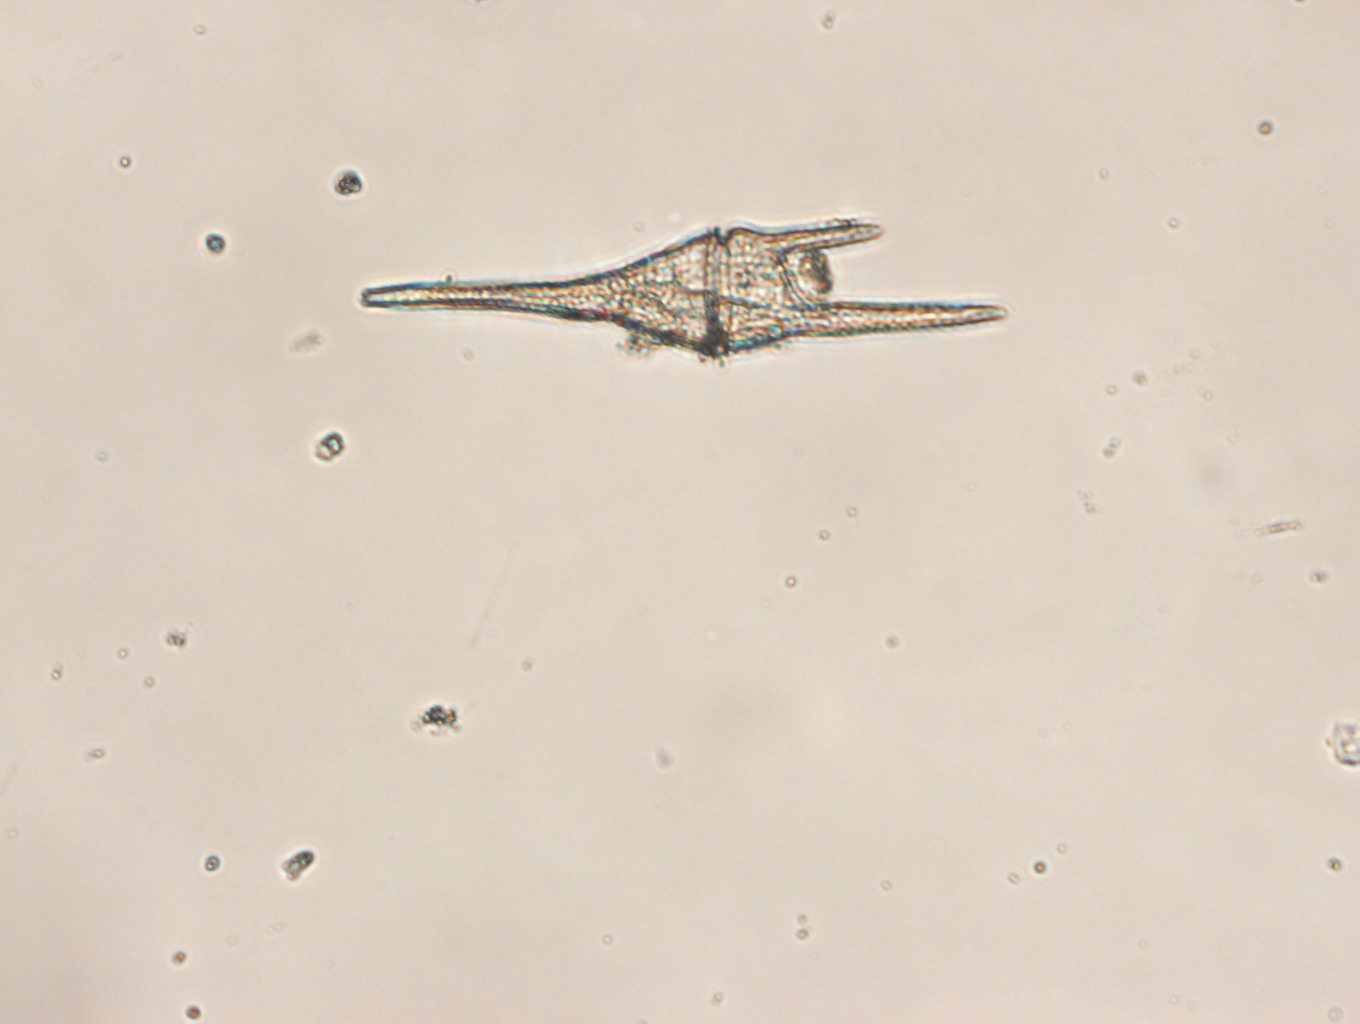ceratium furca: (359, 219, 1010, 357)
